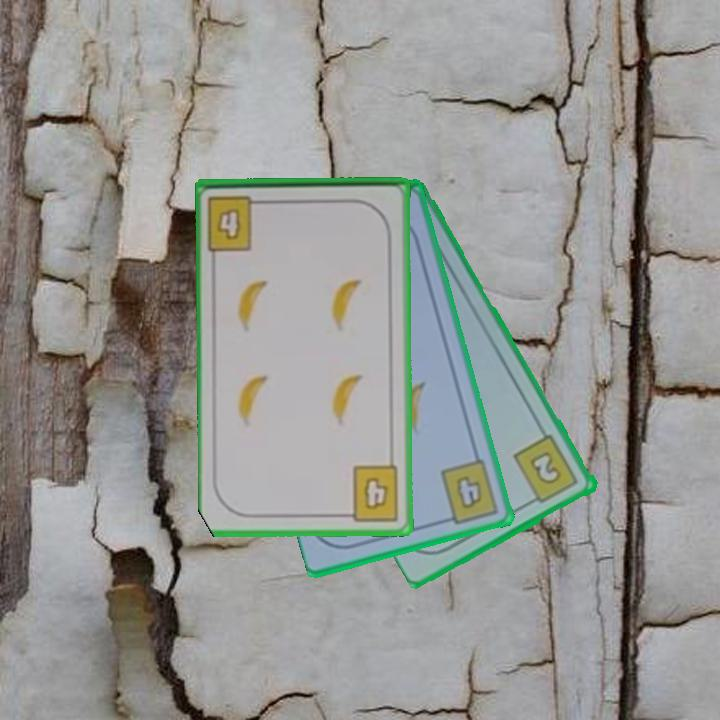2b: (510, 431, 582, 508)
4b: (437, 456, 502, 527), (205, 192, 270, 253), (339, 462, 402, 524)
